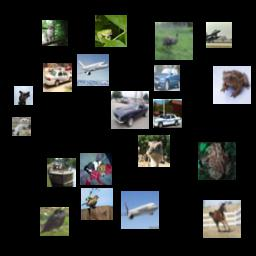airplane: (121, 191, 159, 229), (77, 54, 109, 86), (206, 22, 232, 48)
automobile: (111, 91, 149, 129), (43, 63, 72, 92), (153, 99, 182, 128), (154, 65, 180, 91)
bird: (155, 22, 193, 60), (138, 135, 170, 167), (81, 188, 113, 220), (40, 207, 69, 236)
cat: (42, 20, 68, 46)
dog: (80, 153, 112, 185), (14, 86, 33, 105), (12, 117, 31, 136)
frog: (198, 142, 236, 180), (213, 66, 251, 104), (95, 15, 127, 47)
ship: (47, 158, 76, 187)
